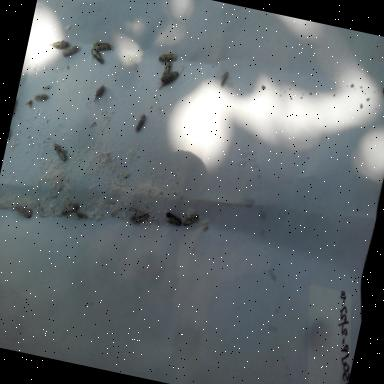pbw: (127, 207, 152, 230), (58, 198, 80, 222), (49, 141, 71, 163), (60, 41, 82, 62), (46, 35, 70, 54), (156, 60, 173, 85), (180, 210, 201, 230), (162, 210, 185, 228), (11, 202, 34, 220), (91, 38, 113, 56), (86, 46, 106, 65), (157, 49, 178, 67), (91, 82, 106, 106), (133, 112, 147, 134), (216, 69, 230, 91), (32, 89, 50, 105)
